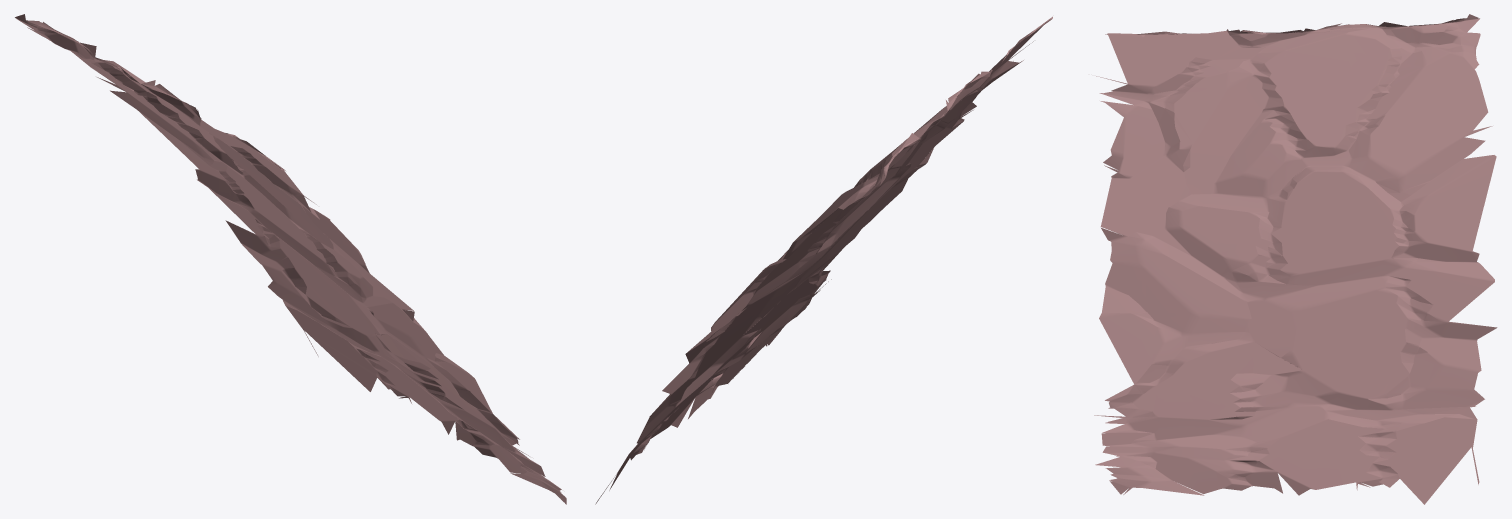
File: plateau.fbx_Rock_Plateau_032LODs.fbx
3 renders of one model, left to right at view 1: azimuth 30°, elevation 25°; view 2: azimuth 150°, elevation 25°; view 3: azimuth 270°, elevation 25°, orthographic. The views are drawn at different scales.
Parts seen in each view (by area): view 1: Rock Plateau.032_LOD0; view 2: Rock Plateau.032_LOD0; view 3: Rock Plateau.032_LOD0.
Boxes of the visible parts, left/top/right/bottom form: Rock Plateau.032_LOD0: left=15, top=14, right=566, bottom=504; Rock Plateau.032_LOD0: left=595, top=16, right=1052, bottom=504; Rock Plateau.032_LOD0: left=1094, top=14, right=1497, bottom=504.
Size of what is drawn, in the model's own units: 2538 by 3151 by 3246.
